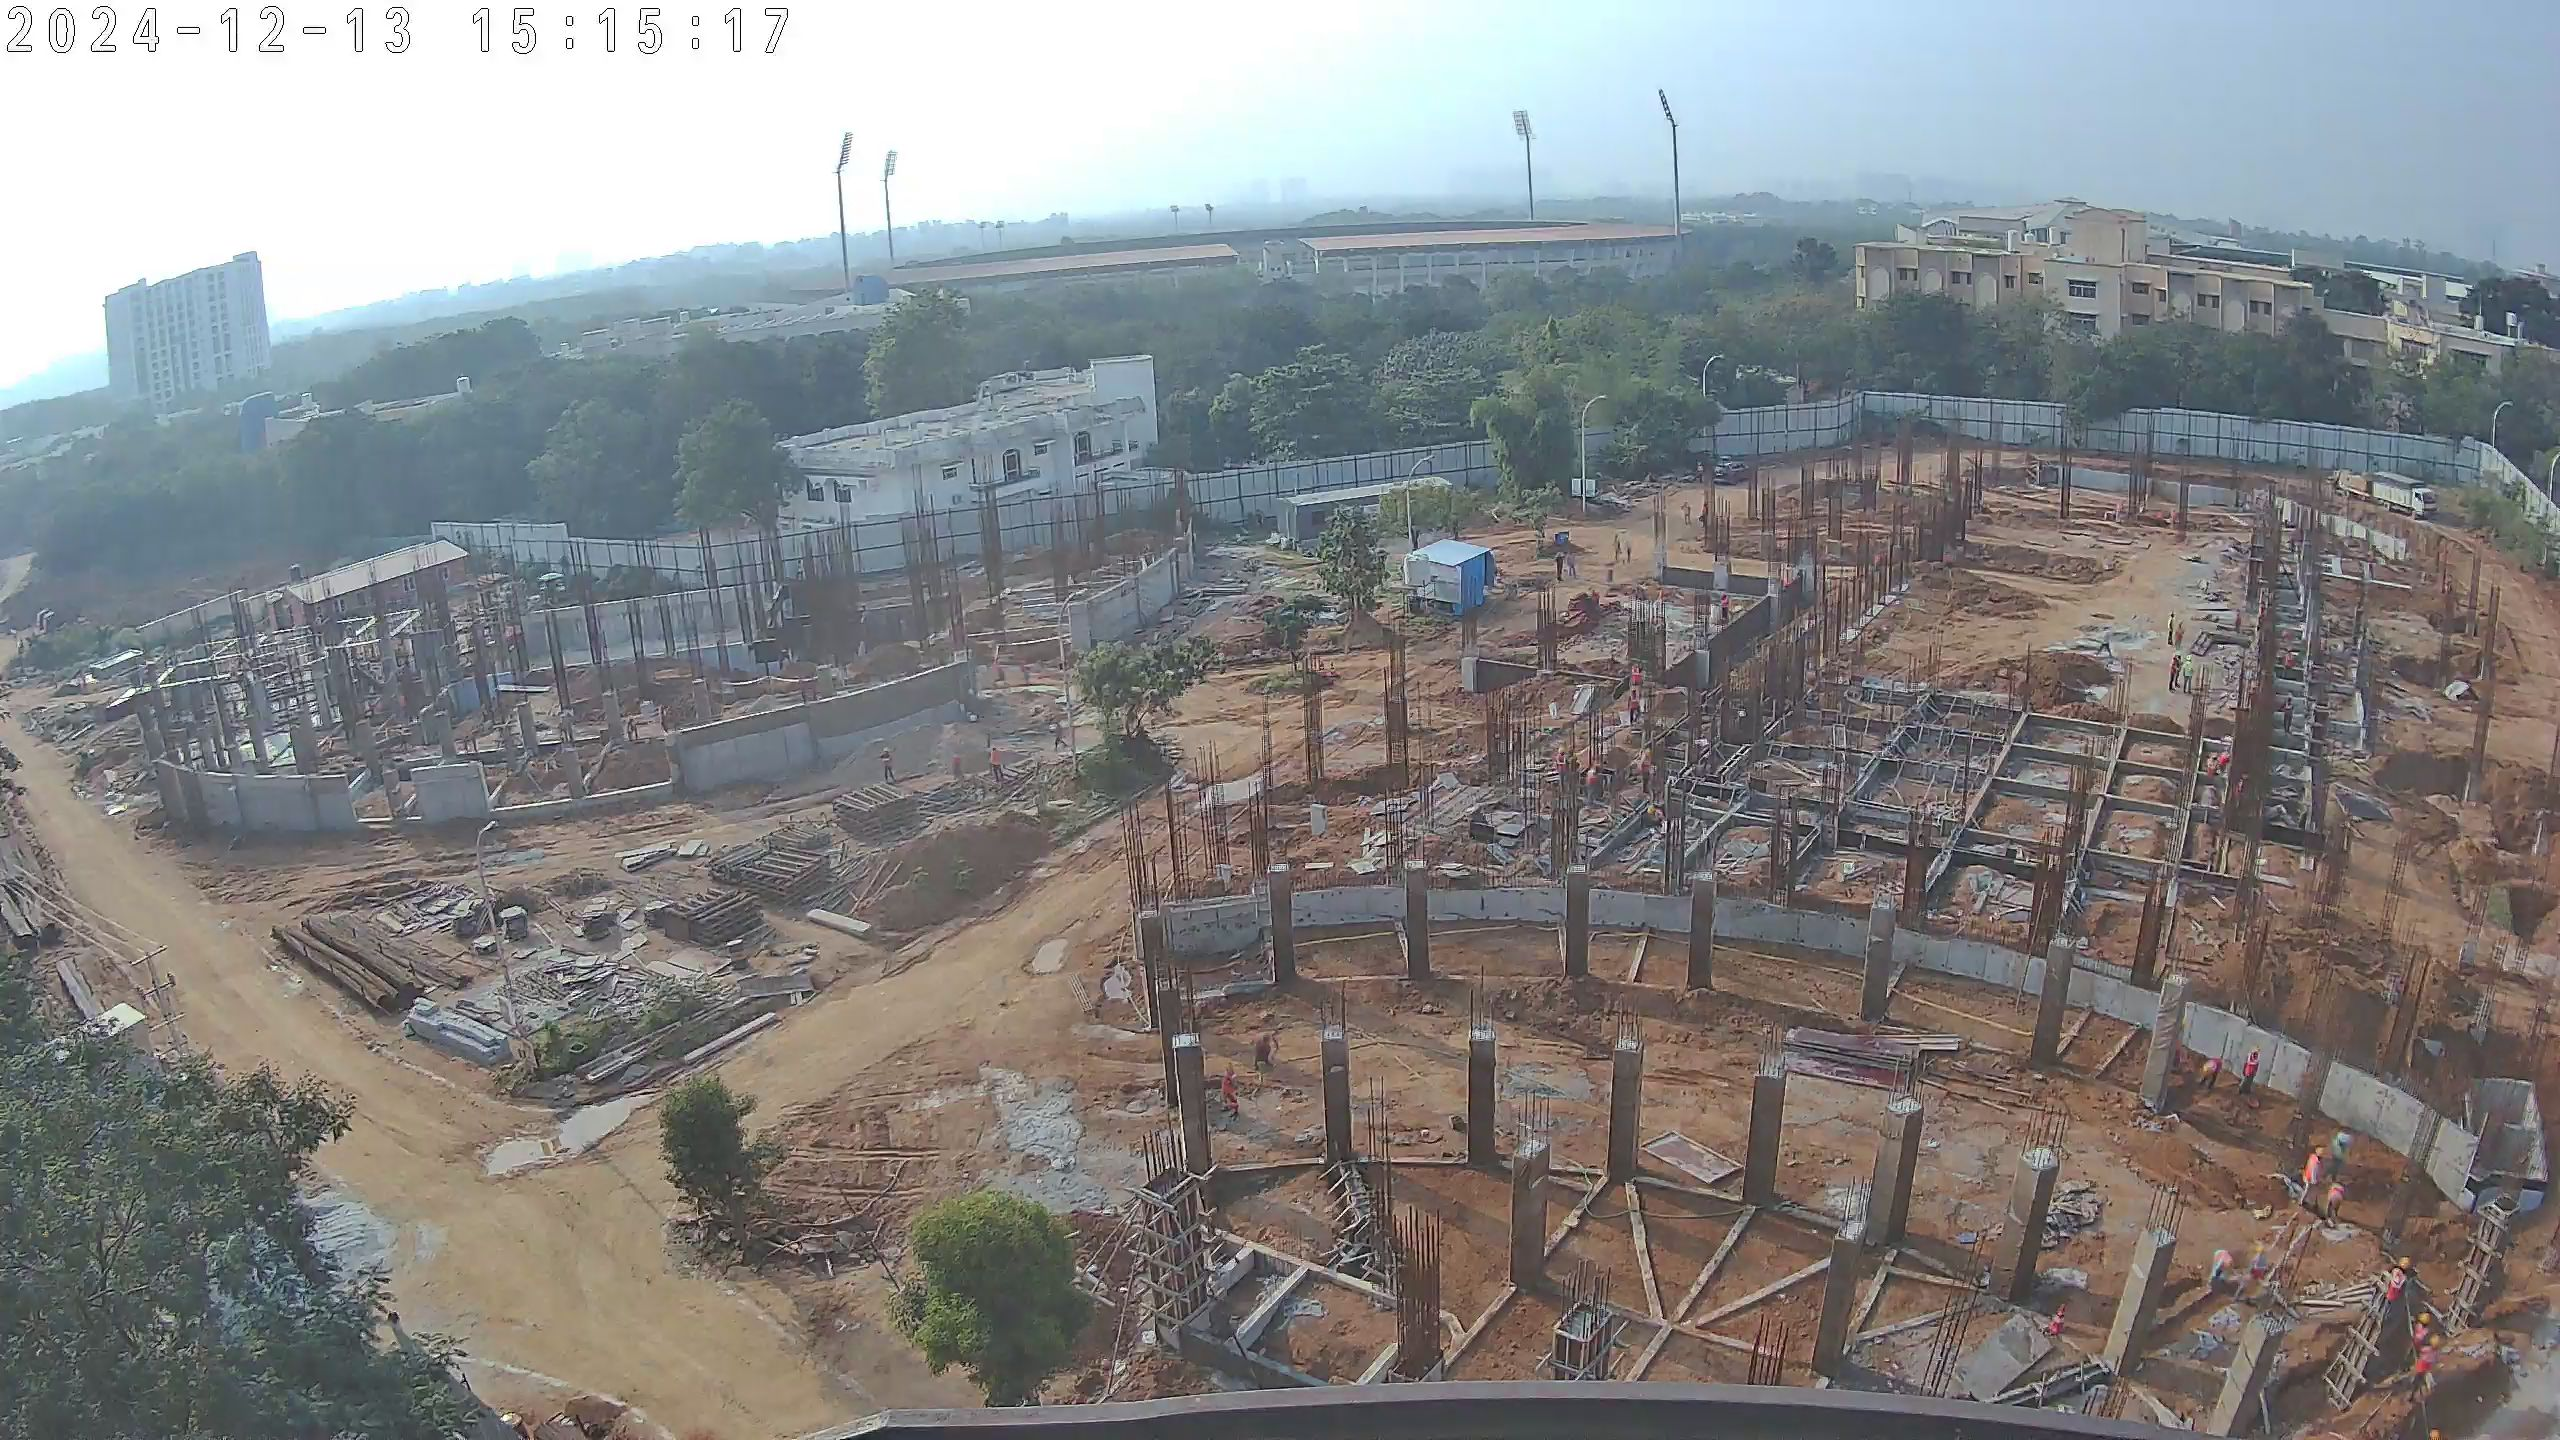car: (1706, 458, 1763, 488)
truck: (2327, 462, 2433, 520)
worker: (2408, 1316, 2441, 1406), (2203, 1238, 2253, 1297), (1209, 1056, 1245, 1126), (2383, 1254, 2414, 1320), (1250, 1026, 1289, 1075), (2295, 1137, 2318, 1202), (2236, 1043, 2262, 1098), (879, 744, 905, 790), (2320, 1179, 2345, 1225), (2197, 1051, 2225, 1092), (2274, 692, 2296, 740), (1636, 749, 1657, 795), (1584, 760, 1603, 810), (1555, 745, 1575, 792), (2094, 624, 2117, 660), (988, 743, 1007, 786), (989, 656, 1009, 693), (950, 746, 968, 786), (623, 712, 644, 745), (1716, 588, 1734, 626), (2180, 652, 2195, 695), (2168, 652, 2183, 692), (1053, 721, 1071, 754), (1619, 529, 1633, 571), (2204, 750, 2219, 787), (1628, 686, 1643, 723), (1565, 549, 1581, 580), (1678, 500, 1694, 530), (1631, 659, 1645, 693), (1553, 548, 1565, 587), (1612, 524, 1623, 565), (2281, 649, 2294, 683), (2166, 611, 2177, 649), (2231, 609, 2244, 635), (2174, 619, 2184, 652)
